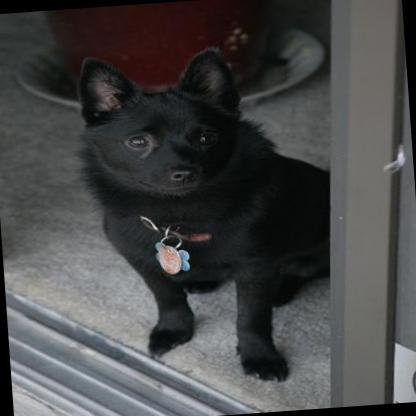schipperke: (69, 38, 342, 393)
